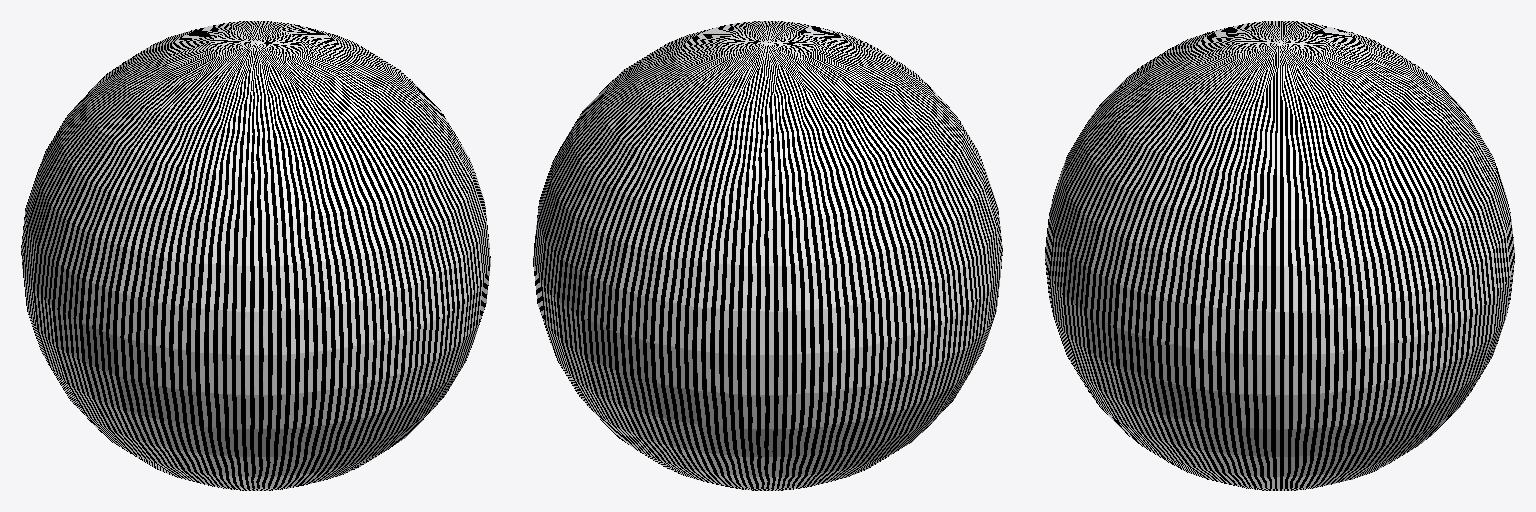
3 views of the same model, side by side, from view 1: azimuth 30°, elevation 25°; view 2: azimuth 150°, elevation 25°; view 3: azimuth 270°, elevation 25° (orthographic).
Visible parts, largest first — view 1: Sphere; view 2: Sphere; view 3: Sphere.
Part boxes in pixels (x1,y1,x2,y2): Sphere: (21,21,490,490); Sphere: (533,21,1002,490); Sphere: (1045,21,1514,490).
Bounding box in the file's own units: 2.01 × 2.01 × 2.01.
1 materials, 1 textured.